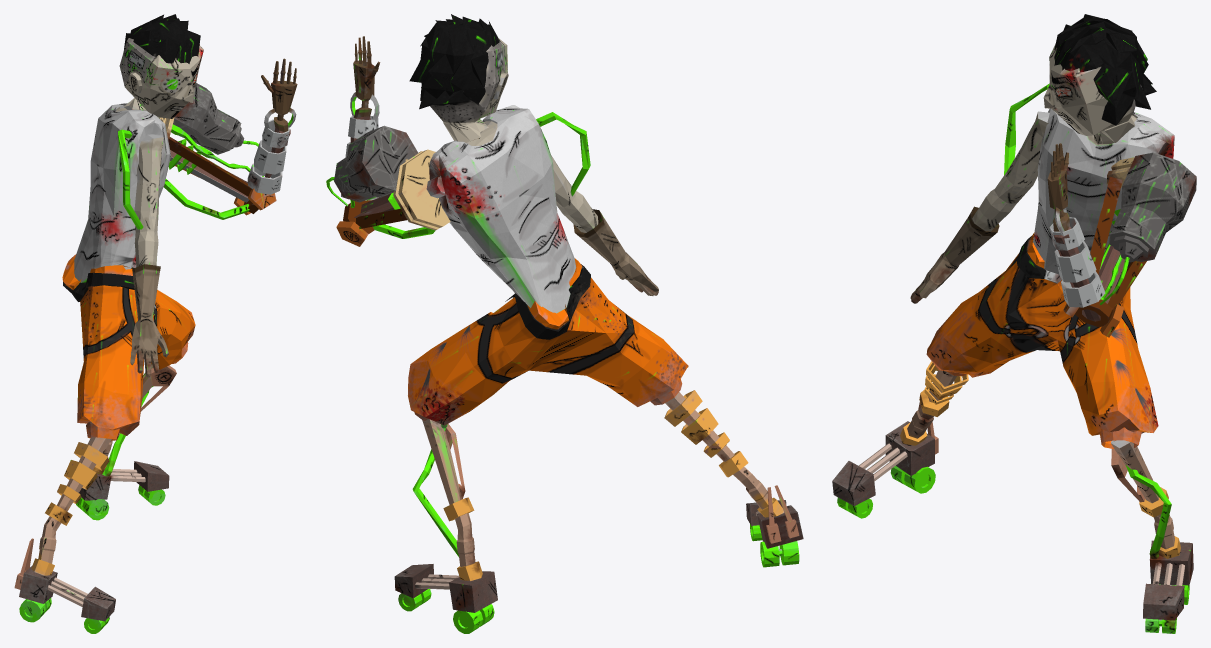
File: CyborgFINALAnimation_000058.obj
3 views of the same model, side by side, from view 1: azimuth 30°, elevation 25°; view 2: azimuth 150°, elevation 25°; view 3: azimuth 270°, elevation 25° (orthographic). The views are drawn at different scales.
Visible parts, largest first — view 1: CyborgMesh_Cube.002; view 2: CyborgMesh_Cube.002; view 3: CyborgMesh_Cube.002.
Boxes of the visible parts, <box> form: CyborgMesh_Cube.002: <box>14,14,297,633</box>; CyborgMesh_Cube.002: <box>326,14,803,633</box>; CyborgMesh_Cube.002: <box>832,14,1196,633</box>.
Size of the model in its own units: 6.05 by 8.65 by 4.71.
